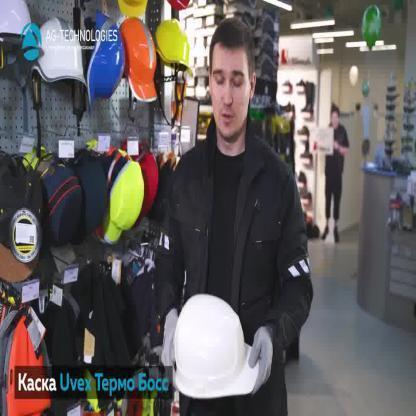gloves: (247, 322, 274, 396), (162, 309, 180, 370)
helmet: (174, 293, 258, 401), (82, 9, 126, 114), (34, 15, 90, 86), (118, 16, 158, 102), (156, 16, 194, 78), (0, 0, 36, 53)
